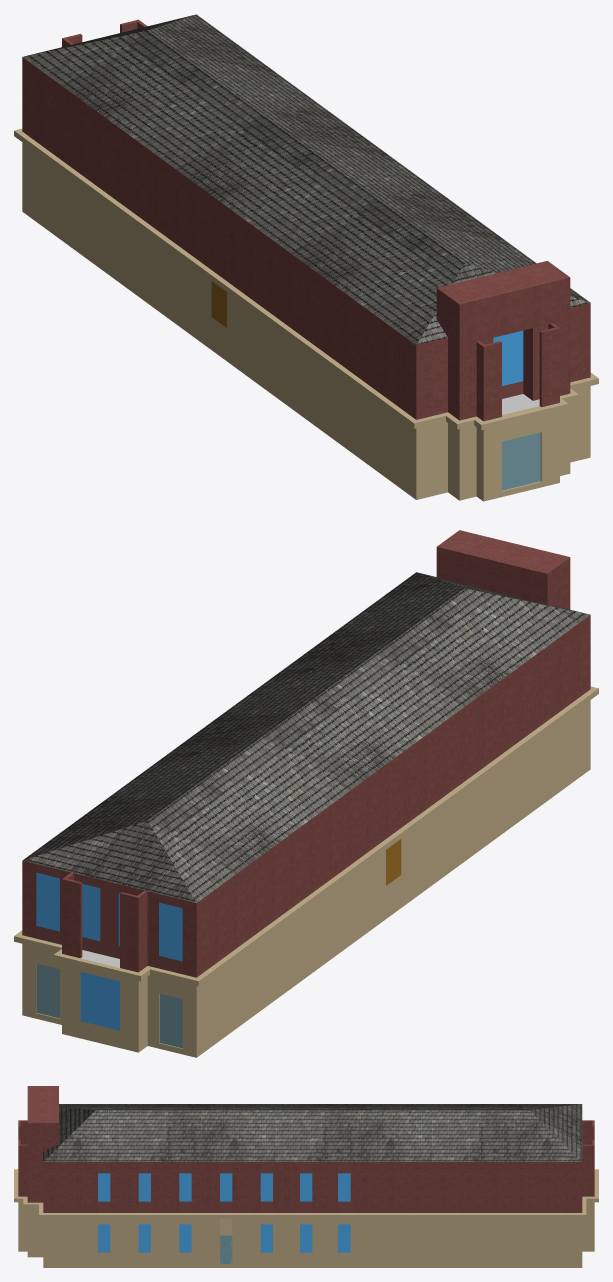
Rendered from pump_house.glb.
The picture shows the model from 3 angles, top to bottom: view 1: azimuth 30°, elevation 25°; view 2: azimuth 150°, elevation 25°; view 3: azimuth 270°, elevation 25°; orthographic projection. The views are drawn at different scales.
Visible parts, largest first — view 1: Floor1, Roof; view 2: Floor1, Roof; view 3: Floor1, Roof.
Boxes of the visible parts, box(x1,y1,x2,y2) form: Floor1: box(14, 19, 598, 501); Roof: box(23, 14, 590, 345); Floor1: box(14, 599, 598, 1057); Roof: box(23, 530, 589, 902); Floor1: box(14, 1120, 598, 1267); Roof: box(27, 1086, 582, 1161).
Size of the model in its own units: 14 by 14.2 by 56.1.
8 materials, 7 textured.
